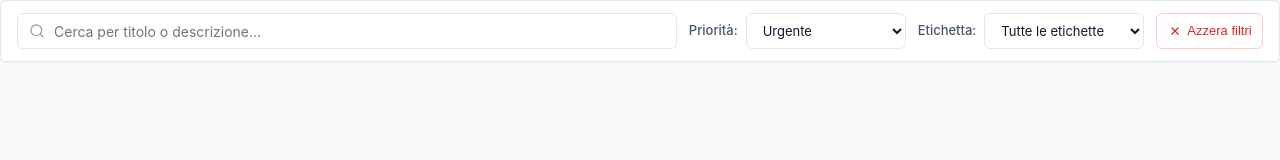
it: BoardFilterToolbarComponent › should show reset button when filters are active and reset on click
The width and height of the screenshot is (1280, 160).
# Click reset button
Step 1. Click the button with class "reset-btn" → (1210, 31), box 1156,13 -> 1263,49
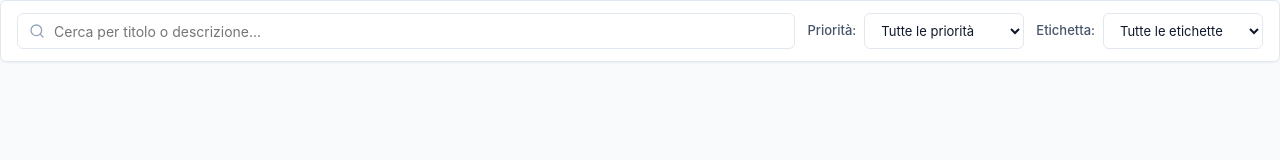
Check: the button with class "reset-btn" is gone
